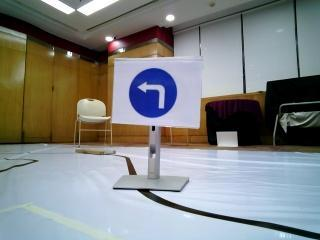left: (122, 64, 194, 121)
